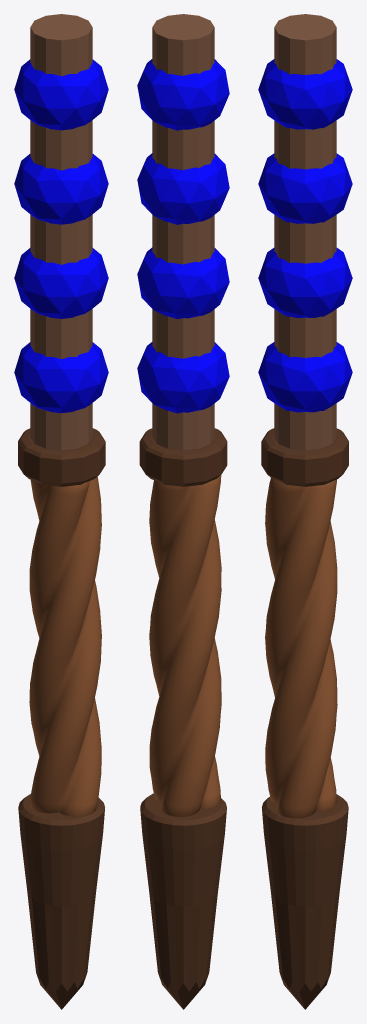
Rendered from Wand 834.glb.
3 renders of one model, left to right at view 1: azimuth 90°, elevation 25°; view 2: azimuth 150°, elevation 25°; view 3: azimuth 270°, elevation 25°, orthographic.
Visible parts, largest first — view 1: GeneratedWand; view 2: GeneratedWand; view 3: GeneratedWand.
Part boxes in pixels (bbox=[...]): GeneratedWand: bbox=[14, 14, 108, 1009]; GeneratedWand: bbox=[137, 14, 229, 1009]; GeneratedWand: bbox=[258, 14, 352, 1009].
Size of the model in its own units: 0.0407 by 0.4917 by 0.0428.
